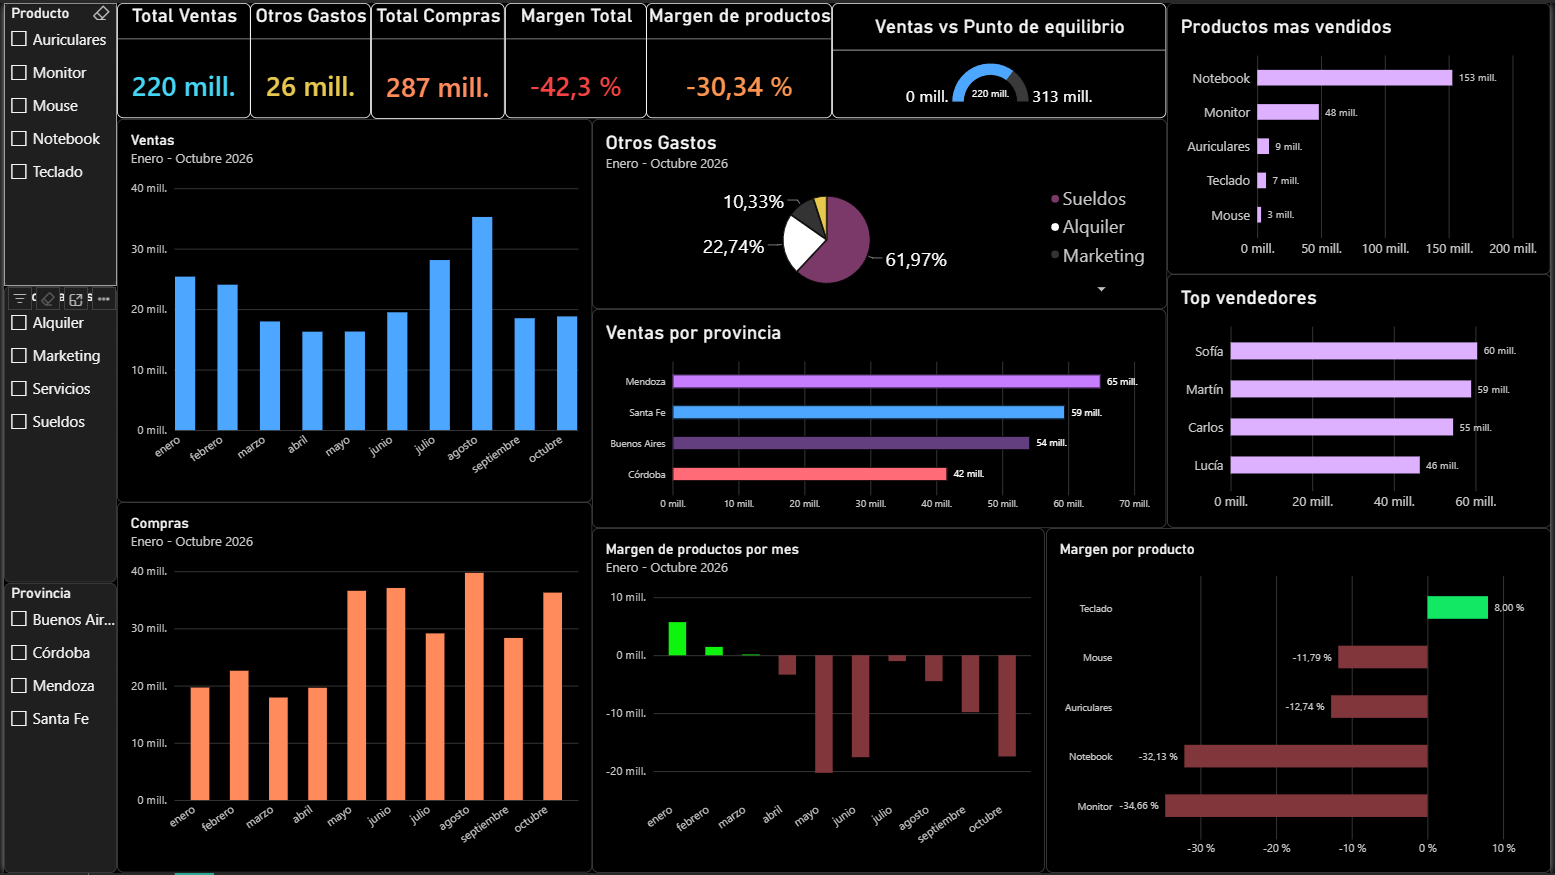

The page's visual inventory and layout, read from the dashboard file:
{"tool":"powerbi","page":{"name":"Página 1","canvas":[1920,1080],"ordinal":0},"visuals":[{"type":"slicer","fields":{"Values":["provincia.Provincia"]},"box":[0,720,140,360],"z":0},{"type":"slicer","fields":{"Values":["Gastos.Concepto"]},"box":[0,351.7,140,368.3],"z":1000},{"type":"cardVisual","title":"Otros Gastos","fields":{"Data":["Sum(Gastos.Monto)"]},"box":[305.7,0,150,142.9],"z":2000},{"type":"cardVisual","title":"Total Compras","fields":{"Data":["Ventas.total compras"]},"box":[455.7,0,165.7,144.3],"z":3000},{"type":"cardVisual","title":"Total Ventas","fields":{"Data":["Ventas.total ventas"]},"box":[140,0,165.7,142.9],"z":4000},{"type":"clusteredBarChart","title":"Top vendedores","fields":{"Category":["Ventas.Vendedor"],"Y":["Sum(Ventas.Ventas_total)"]},"box":[1443.3,336.7,476.7,315],"z":5000},{"type":"clusteredBarChart","title":"Productos mas vendidos","fields":{"Category":["Producto.Producto"],"Y":["Sum(Ventas.Ventas_total)"]},"box":[1444,0,476,337.3],"z":6000},{"type":"cardVisual","title":"Margen Total","fields":{"Data":["Ventas.Medida %","select"]},"box":[621.4,0,175.7,142.9],"z":7000},{"type":"slicer","fields":{"Values":["Producto.Producto"]},"box":[0,0,140,351.7],"z":8000},{"type":"clusteredColumnChart","title":"Compras ","fields":{"Category":["Calendario.Date.Variation.Jerarquía de fechas.Mes"],"Y":["Sum(Compras.Compras_total)"]},"box":[140,620,590,460],"z":9000},{"type":"clusteredBarChart","title":"Ventas por provincia ","fields":{"Category":["Ventas.Provincia"],"Y":["Sum(Ventas.Ventas_total)"]},"box":[730,380,713.3,271.7],"z":10000},{"type":"pieChart","title":"Otros Gastos","fields":{"Category":["Gastos.Concepto"],"Y":["Sum(Gastos.Monto)"]},"box":[730.2,143.6,713.6,235.8],"z":11000},{"type":"gauge","title":"Ventas vs Punto de equilibrio","fields":{"MaxValue":["Ventas.costo total"],"Y":["Ventas.total ventas"]},"box":[1028.3,0,415,143.3],"z":12000},{"type":"lineStackedColumnComboChart","title":"Ventas ","fields":{"Category":["Calendario.Date.Variation.Jerarquía de fechas.Mes"],"Y":["Ventas.total ventas"]},"box":[140.6,143.6,589.6,476.2],"z":13000},{"type":"barChart","title":"Margen por producto","fields":{"Category":["Producto.Producto"],"Y":["Ventas.Margen bruto %"]},"box":[1293.3,652,626.7,428],"z":14000},{"type":"clusteredColumnChart","title":"Margen de productos por mes","fields":{"Category":["Calendario.Date.Variation.Jerarquía de fechas.Mes"],"Y":["Ventas.Margen bruto"]},"box":[730.2,651.6,562.4,427.8],"z":15000},{"type":"cardVisual","title":"Margen de productos","fields":{"Data":["Ventas.Margen bruto %"]},"box":[797.3,0,230.7,142.7],"z":15001}]}

Visuals, with their boxes on the page's 1920x1080 design canvas (x1, y1, x2, y2). These are canvas units, not pixel positions in the 1555x875 screenshot, which may show the page scaled, cropped or inside an application window:
slicer - provincia.Provincia: rect(0, 720, 140, 1080)
slicer - Gastos.Concepto: rect(0, 352, 140, 720)
"Otros Gastos" cardVisual: rect(306, 0, 456, 143)
"Total Compras" cardVisual: rect(456, 0, 621, 144)
"Total Ventas" cardVisual: rect(140, 0, 306, 143)
"Top vendedores" clusteredBarChart: rect(1443, 337, 1920, 652)
"Productos mas vendidos" clusteredBarChart: rect(1444, 0, 1920, 337)
"Margen Total" cardVisual: rect(621, 0, 797, 143)
slicer - Producto.Producto: rect(0, 0, 140, 352)
"Compras " clusteredColumnChart: rect(140, 620, 730, 1080)
"Ventas por provincia " clusteredBarChart: rect(730, 380, 1443, 652)
"Otros Gastos" pieChart: rect(730, 144, 1444, 379)
"Ventas vs Punto de equilibrio" gauge: rect(1028, 0, 1443, 143)
"Ventas " lineStackedColumnComboChart: rect(141, 144, 730, 620)
"Margen por producto" barChart: rect(1293, 652, 1920, 1080)
"Margen de productos por mes" clusteredColumnChart: rect(730, 652, 1293, 1079)
"Margen de productos" cardVisual: rect(797, 0, 1028, 143)
